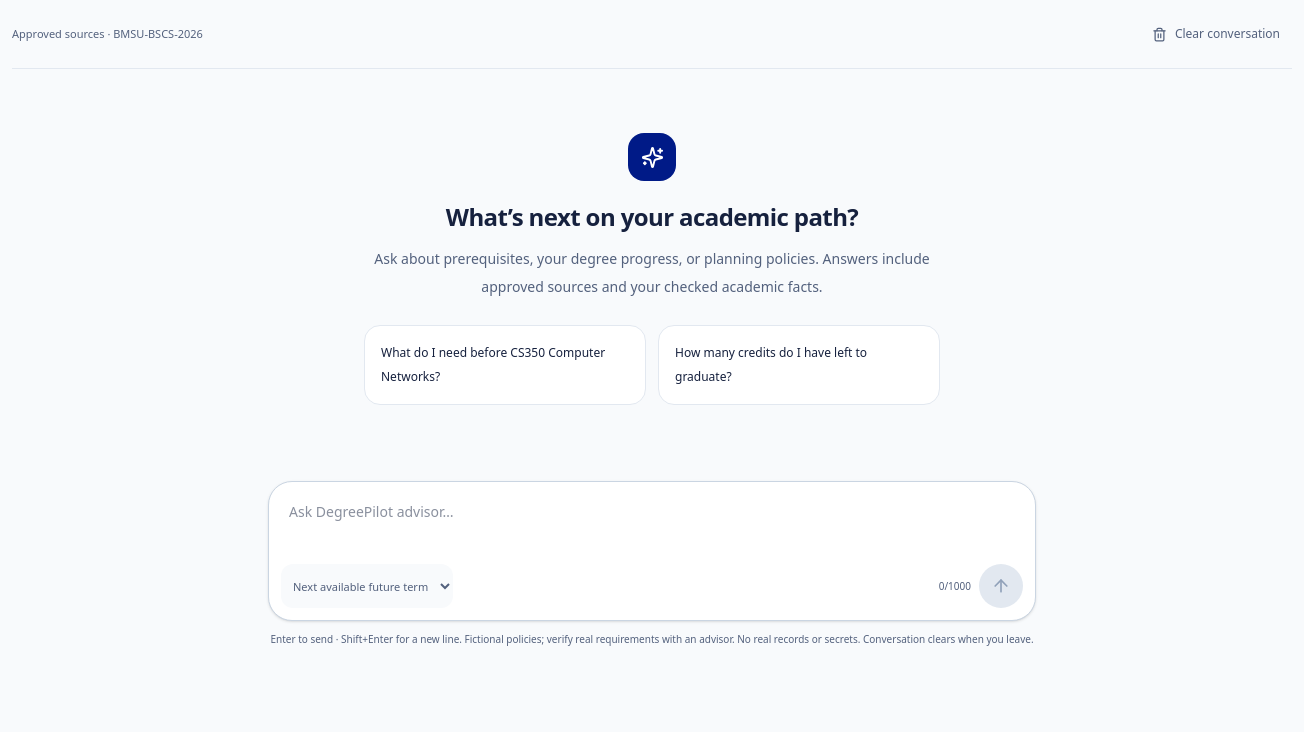
Test: sends bounded user context, opens citations, and clears the local conversation
Step 1. Type "Why can't I take CS401?" into the text box named "Your question" → (652, 526), box 281,494 -> 1023,558
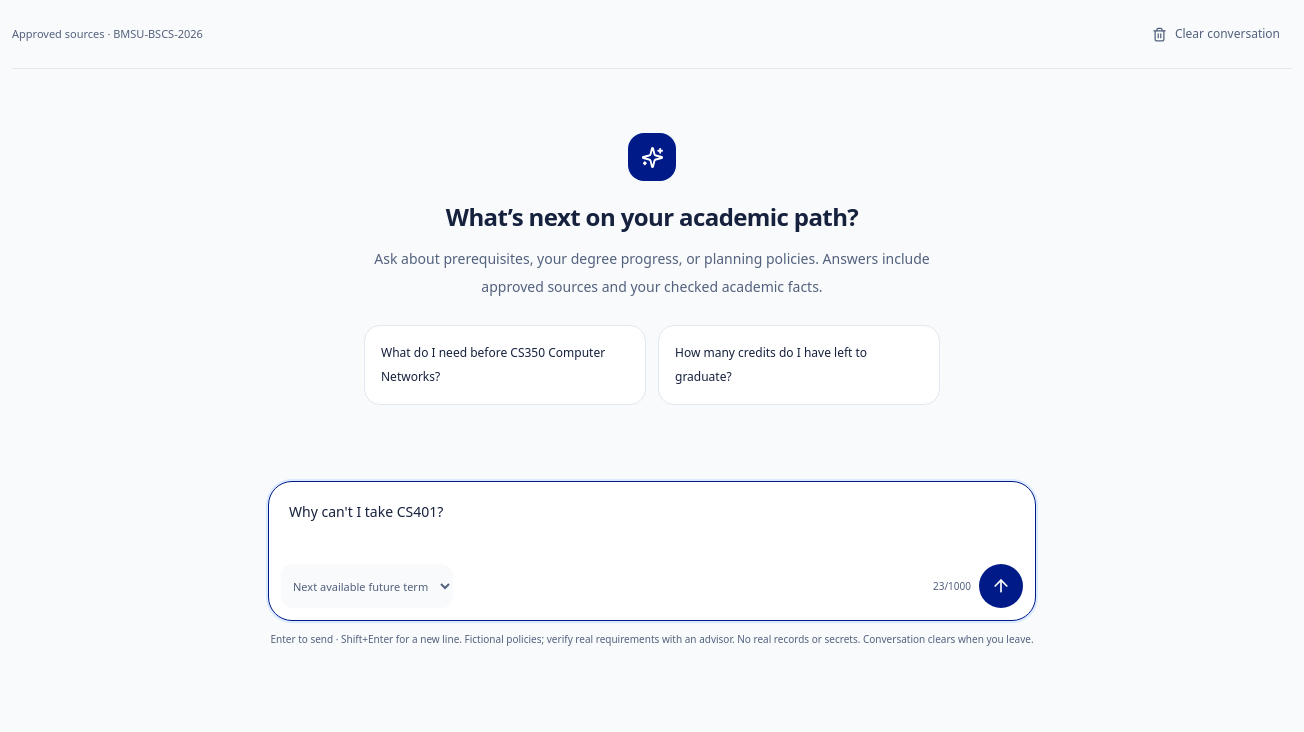
Step 2. Click the button named "Send question" → click(1001, 586), box 979,564 -> 1023,608
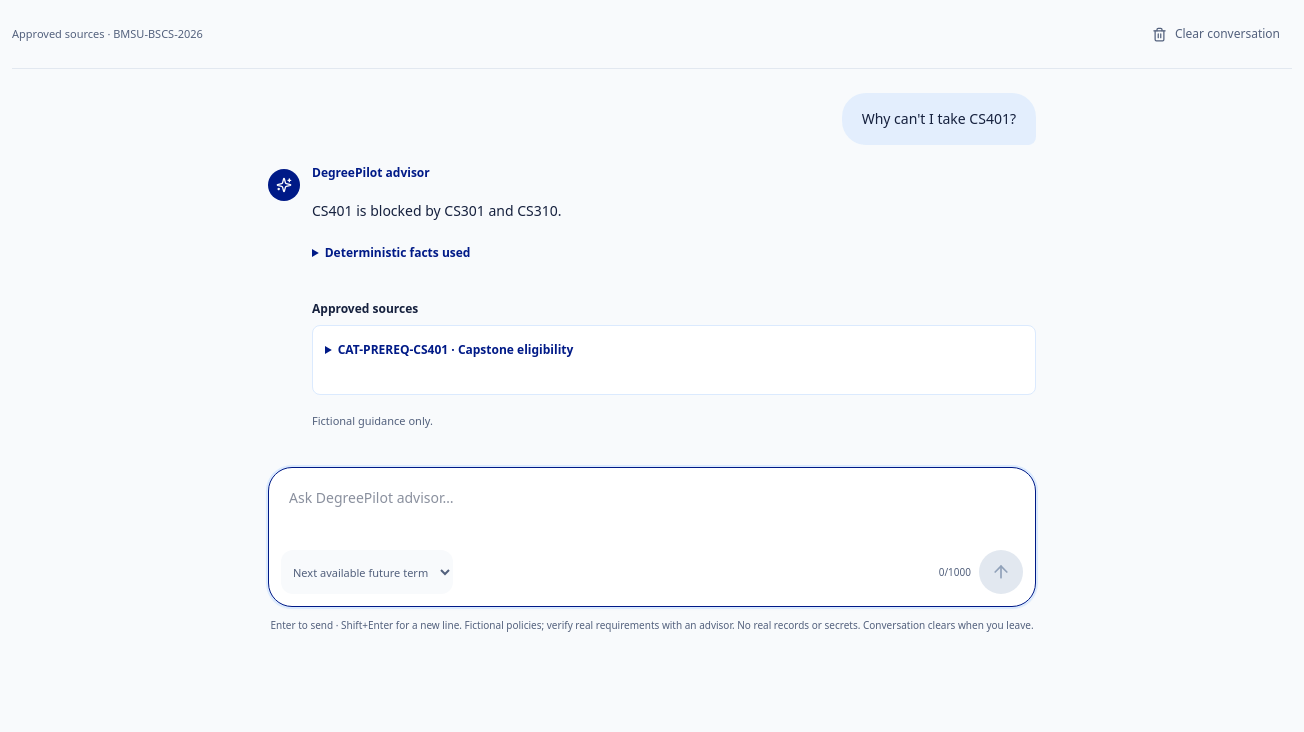
expect the text "CS401 is blocked by CS301 and CS310." is shown: met, box 312,201 -> 562,220
Step 3. Click the heading "CAT-PREREQ-CS401 · Capstone eligibility" → click(456, 350), box 338,341 -> 573,358
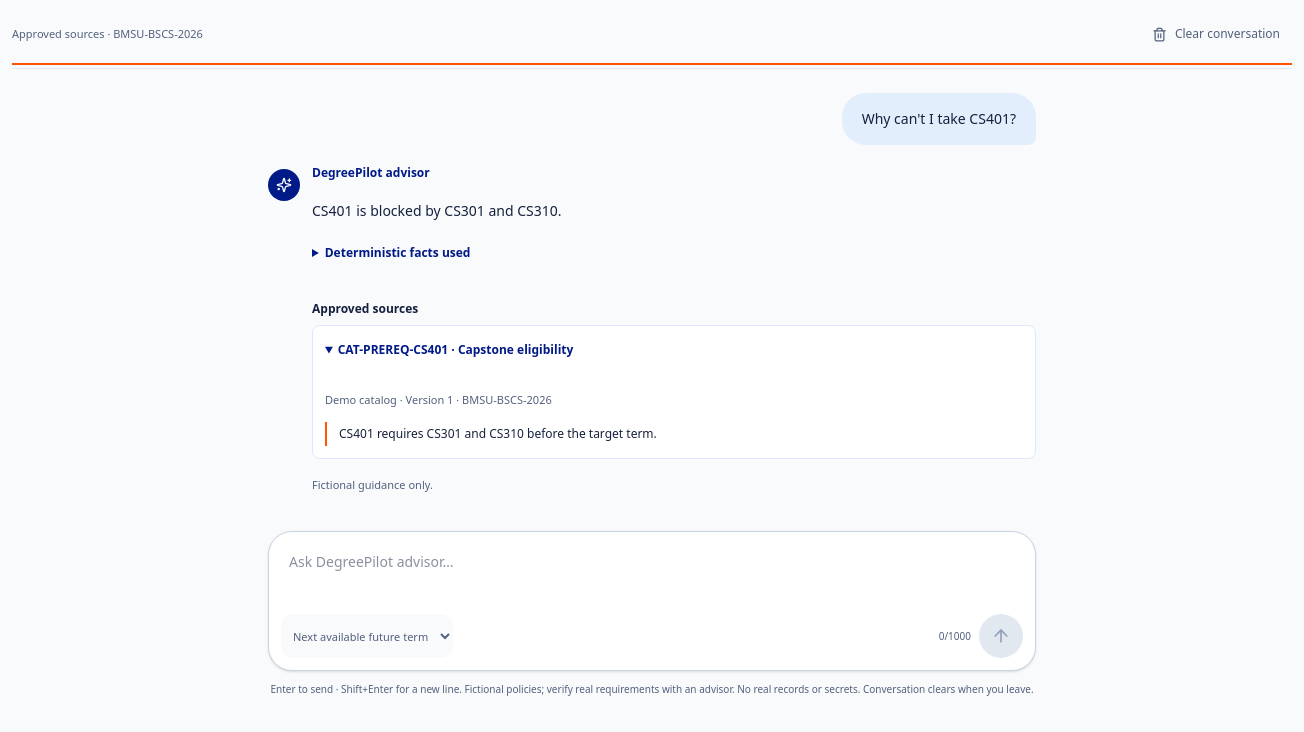
expect the text "CS401 requires CS301 and CS310 before the target term." is shown: met, box 325,422 -> 1023,446
Step 4. Type "Tell me more" into the text box named "Your question" → (652, 576), box 281,544 -> 1023,608
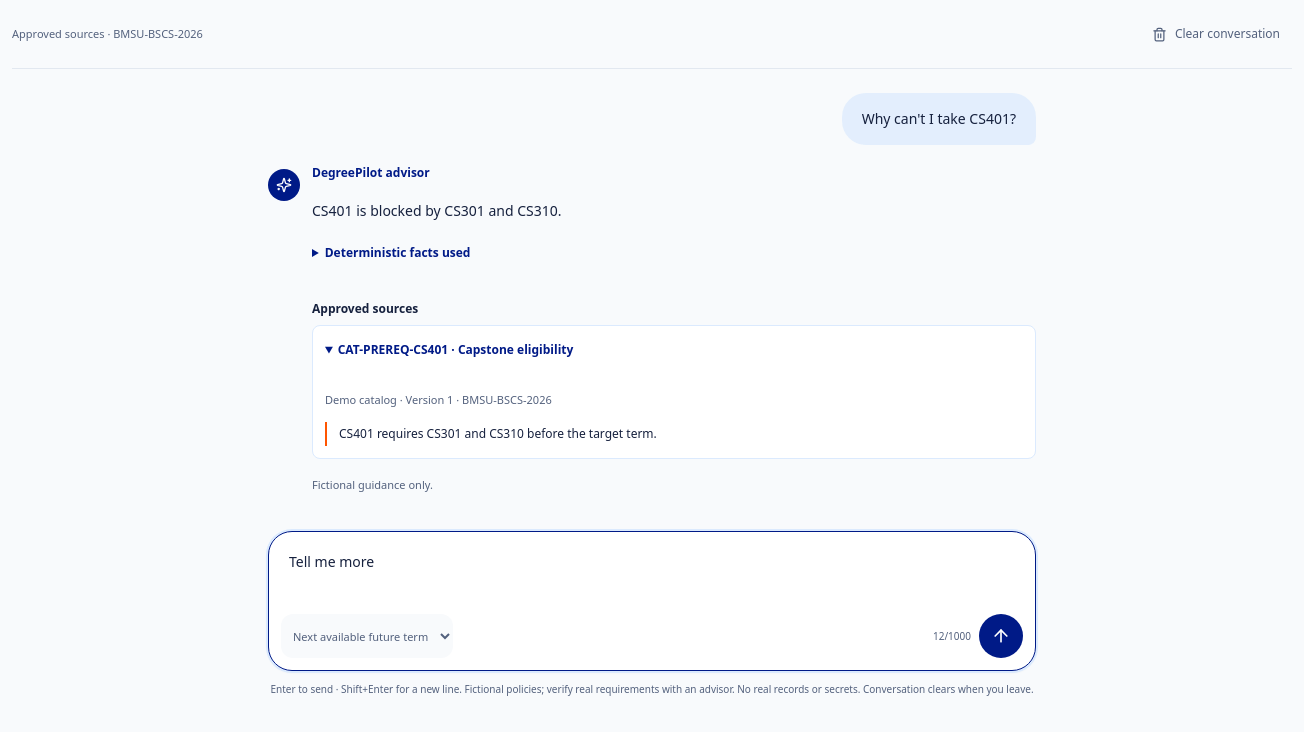
Step 5. Click the button named "Send question" → click(1001, 636), box 979,614 -> 1023,658
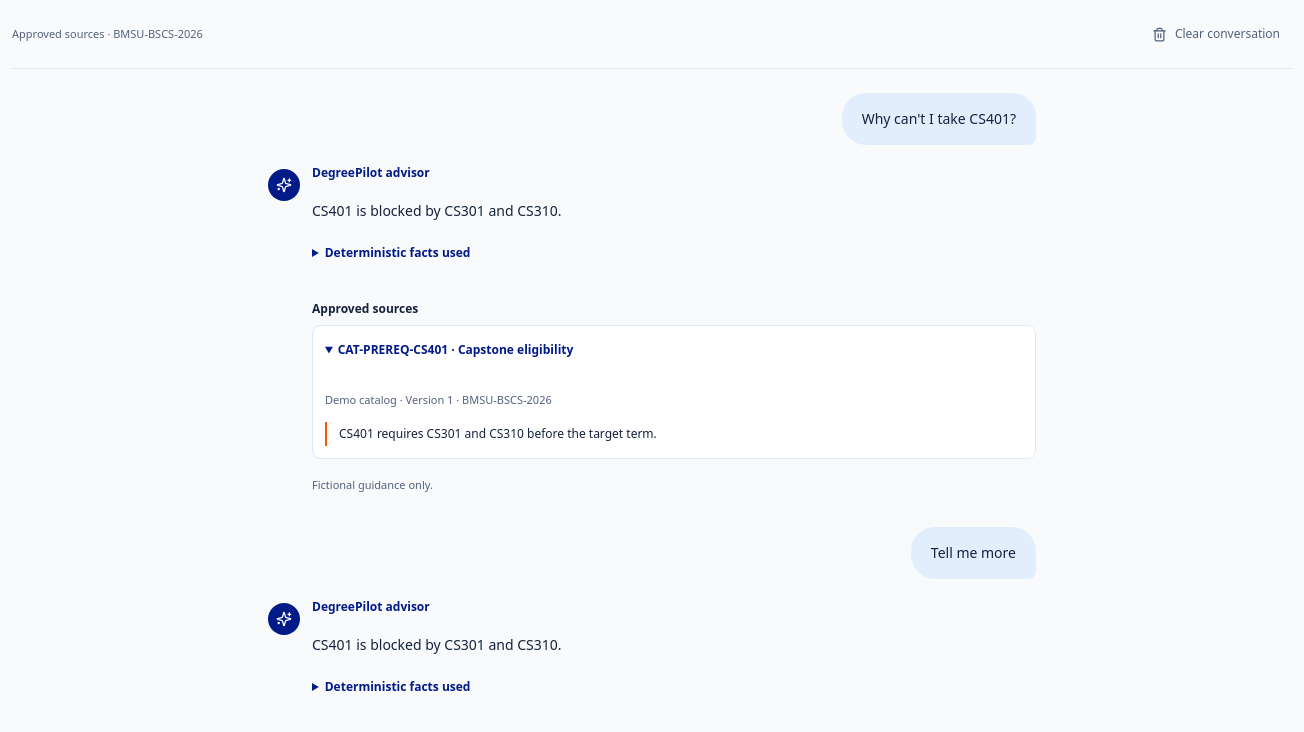
Step 6. Click the button "Clear conversation" → click(1216, 34), box 1140,12 -> 1292,56
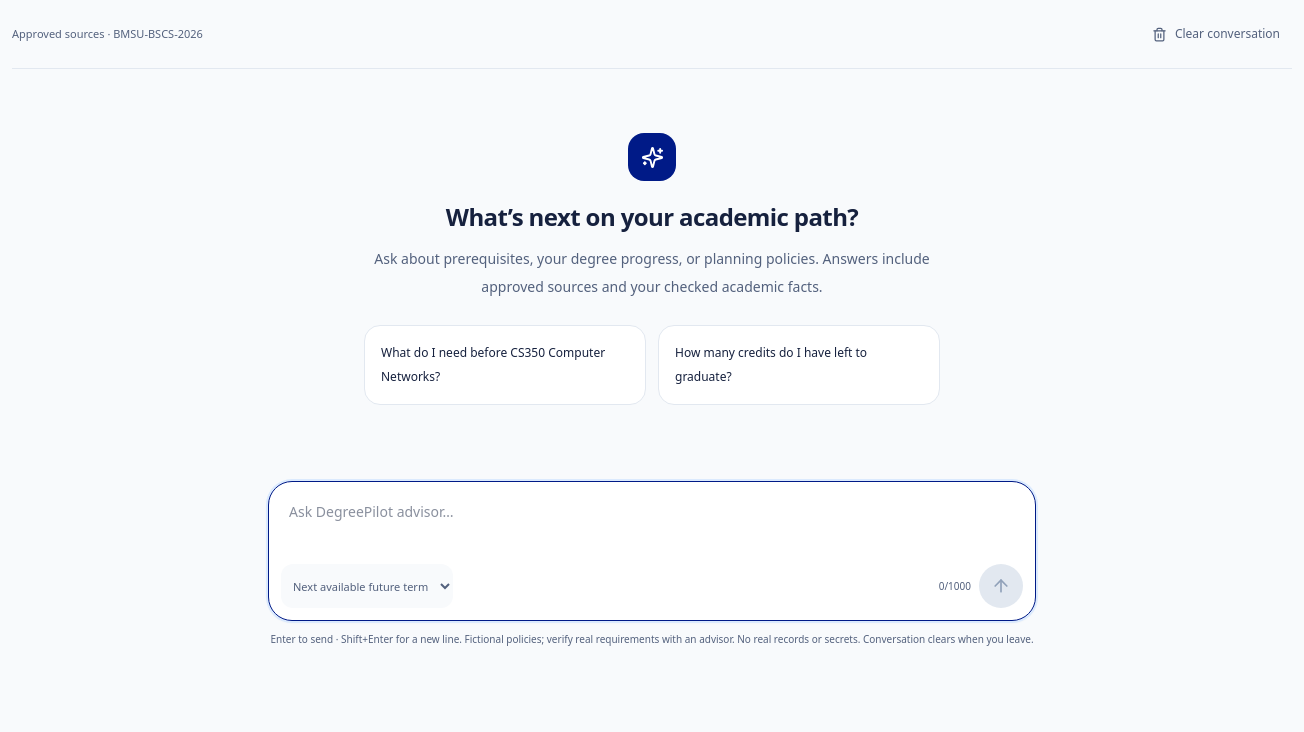
expect the text "CS401 is blocked by CS301 and CS310." is gone: met
